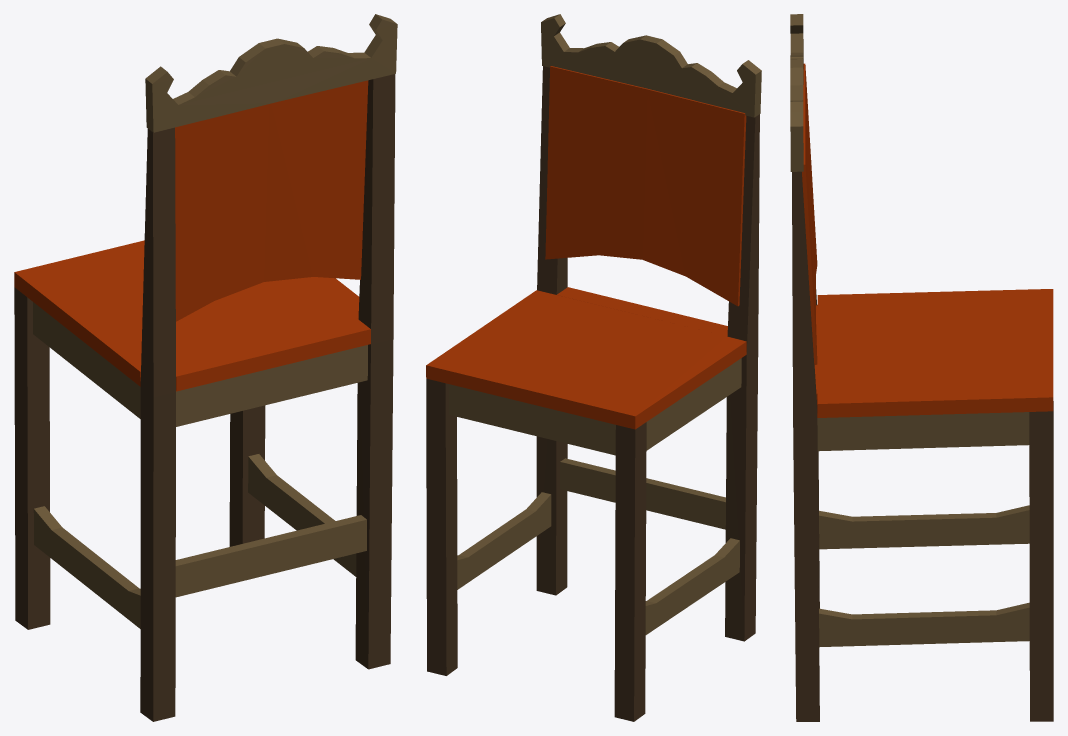
File: chair_2.FBX
3 views of the same model, side by side, from view 1: azimuth 30°, elevation 25°; view 2: azimuth 150°, elevation 25°; view 3: azimuth 270°, elevation 25° (orthographic). The views are drawn at different scales.
Parts seen in each view (by area): view 1: chair_2; view 2: chair_2; view 3: chair_2.
Part boxes in pixels (x1=…): chair_2: x1=14, y1=14, x2=397, y2=721; chair_2: x1=426, y1=14, x2=761, y2=721; chair_2: x1=790, y1=14, x2=1053, y2=721.
Bounding box in the file's own units: 17.06 × 43.2 × 17.04.
